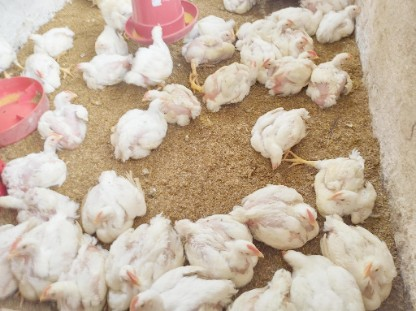Pollos: (111, 217, 191, 307), (178, 208, 265, 282), (332, 226, 401, 303), (8, 218, 75, 296), (82, 159, 148, 237), (244, 185, 322, 247), (41, 254, 124, 311), (309, 144, 378, 211), (4, 132, 70, 201), (137, 265, 232, 311), (247, 110, 314, 170), (129, 17, 178, 92), (107, 101, 163, 158), (204, 52, 256, 110), (183, 28, 241, 79), (142, 75, 201, 125), (40, 88, 85, 150), (313, 51, 356, 109), (259, 57, 313, 103), (78, 47, 134, 90), (17, 48, 63, 93), (318, 3, 363, 43), (25, 28, 76, 61), (85, 24, 130, 56), (189, 12, 244, 37), (267, 17, 294, 36), (296, 47, 319, 67), (289, 36, 307, 52)
